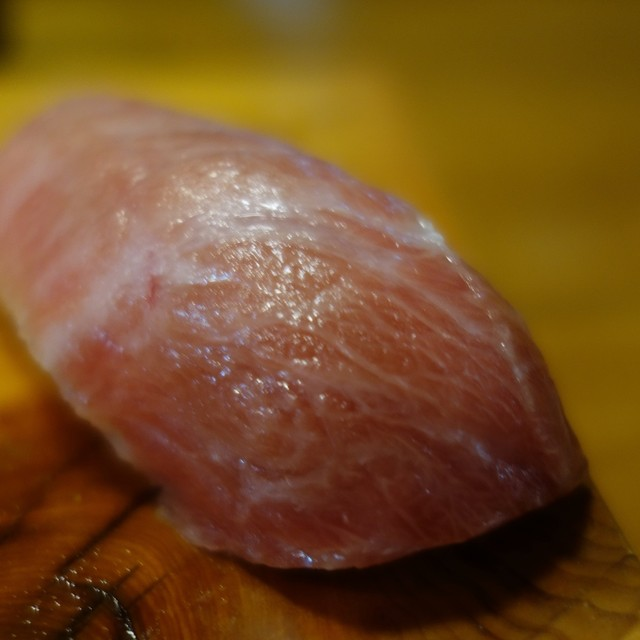medium_fatty_tuna: (2, 93, 595, 579)
